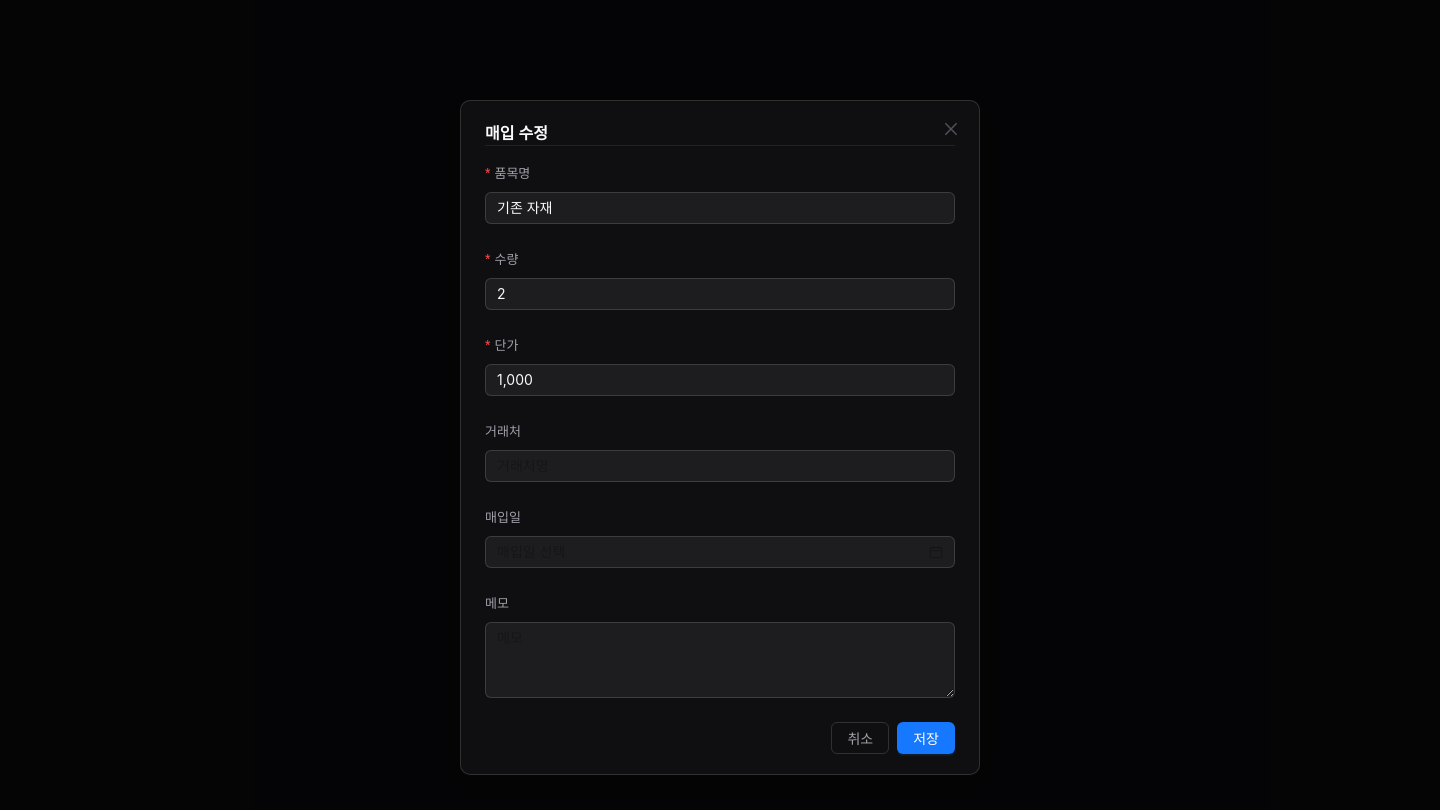
it: PurchaseEditModal › DB 총액 범위를 넘는 값은 서버에 보내지 않는다
Replace the text in the number field with placeholder "수량" with "1001": (720, 294) [486, 279, 954, 309]
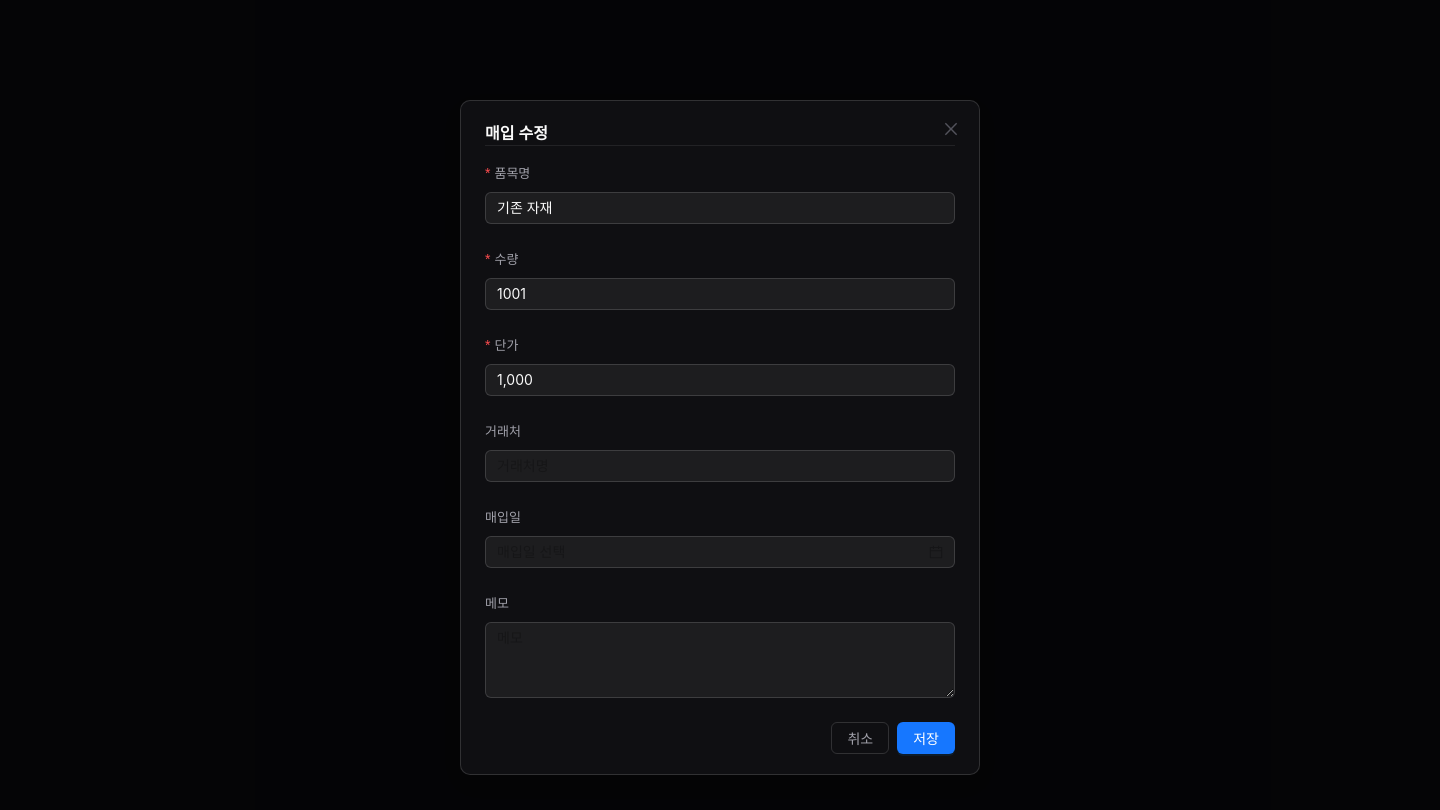
Replace the text in the number field with placeholder "단가" with "9999999999.99": (720, 380) [486, 365, 954, 395]
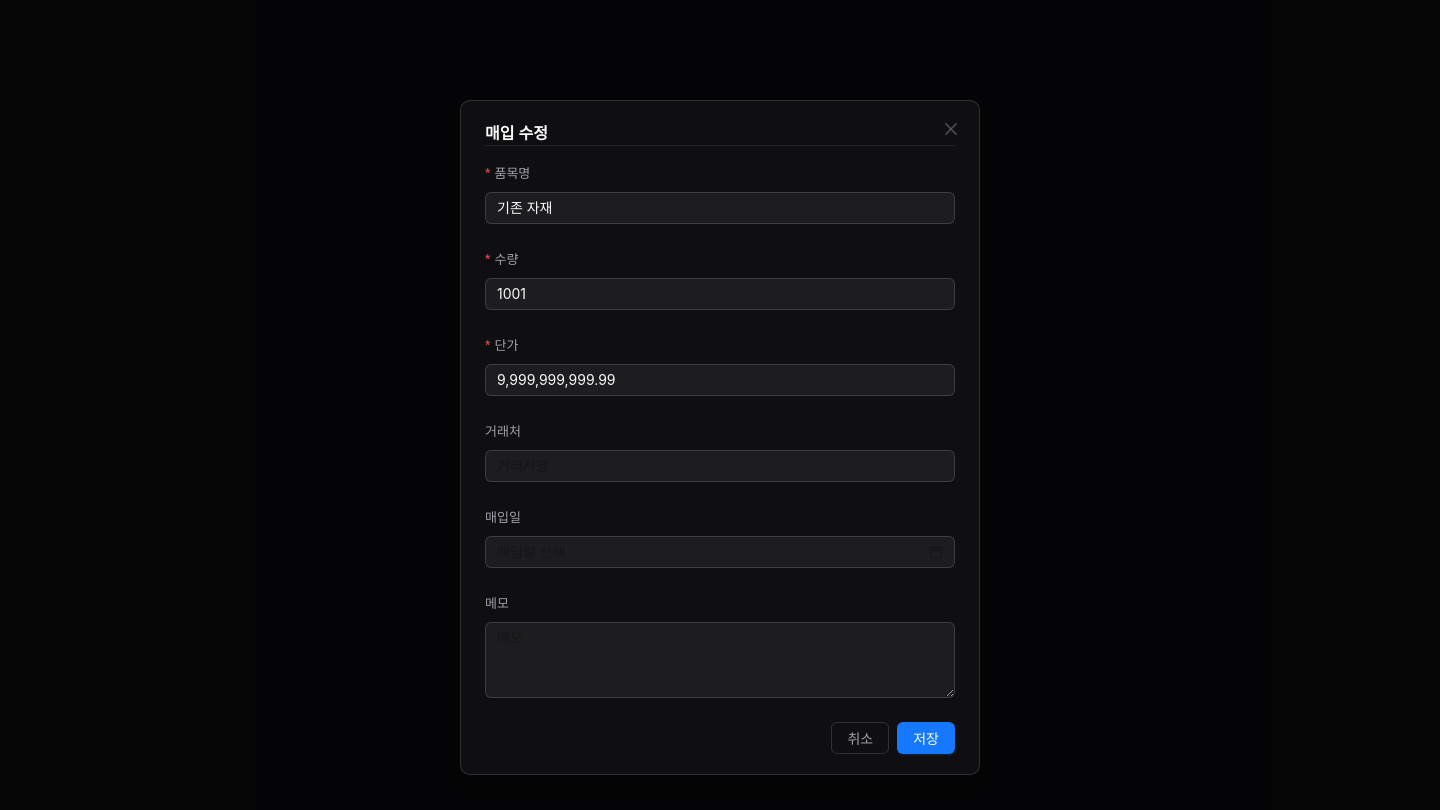
Click the button "저장": click(926, 738) [897, 722, 955, 754]
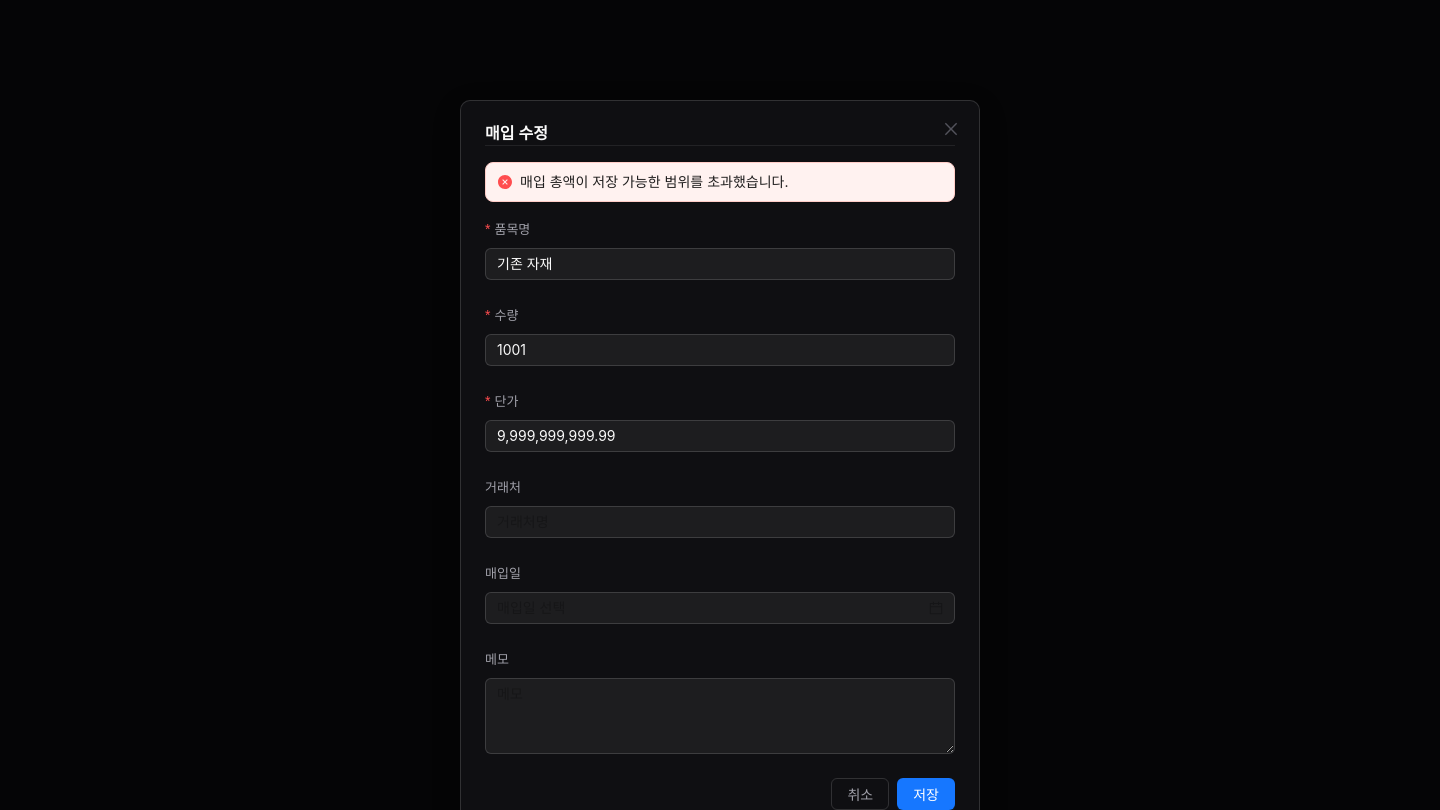
Expected: the text "매입 총액이 저장 가능한 범위를 초과했습니다." is shown, [520, 173, 788, 190]
